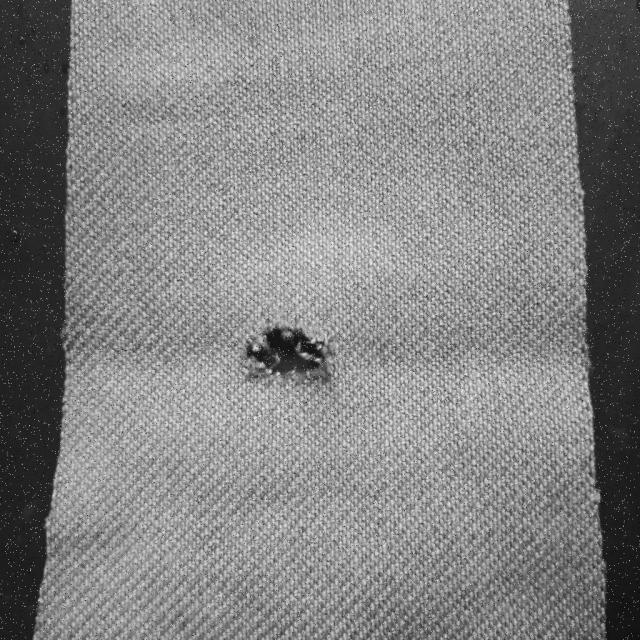seam: (154, 288, 418, 402)
